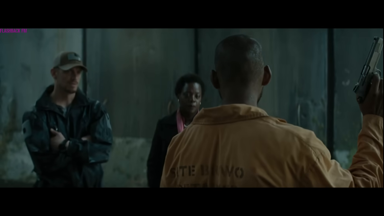firearm: (350, 34, 383, 103)
